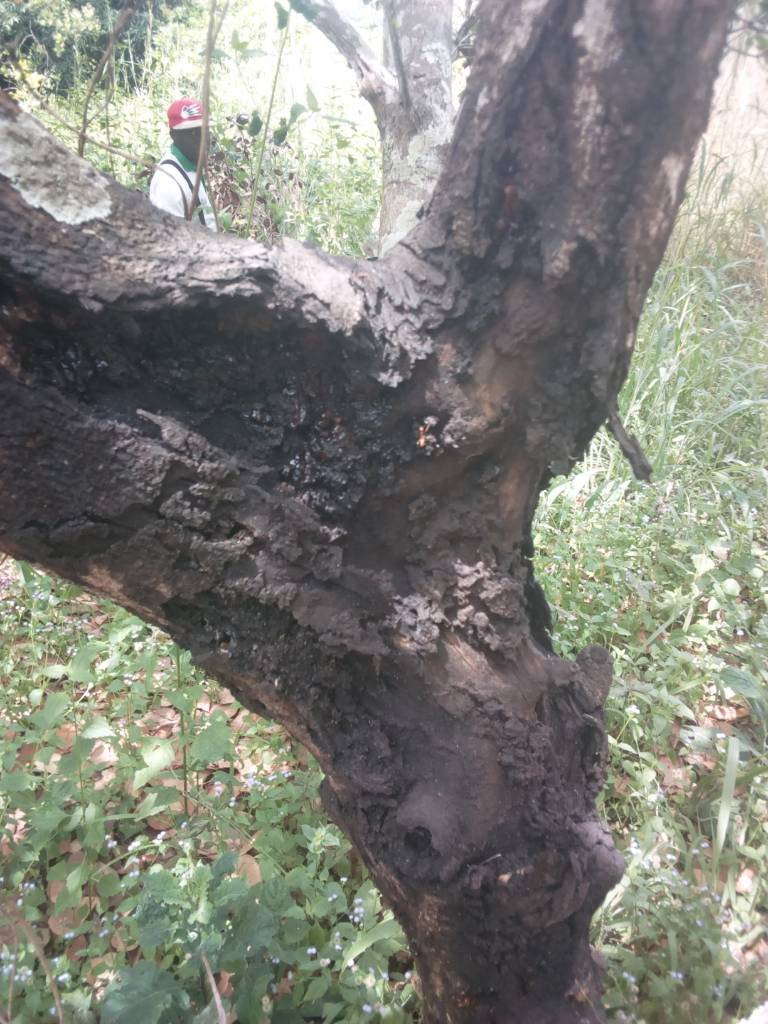Gommose: (96, 225, 630, 941)
